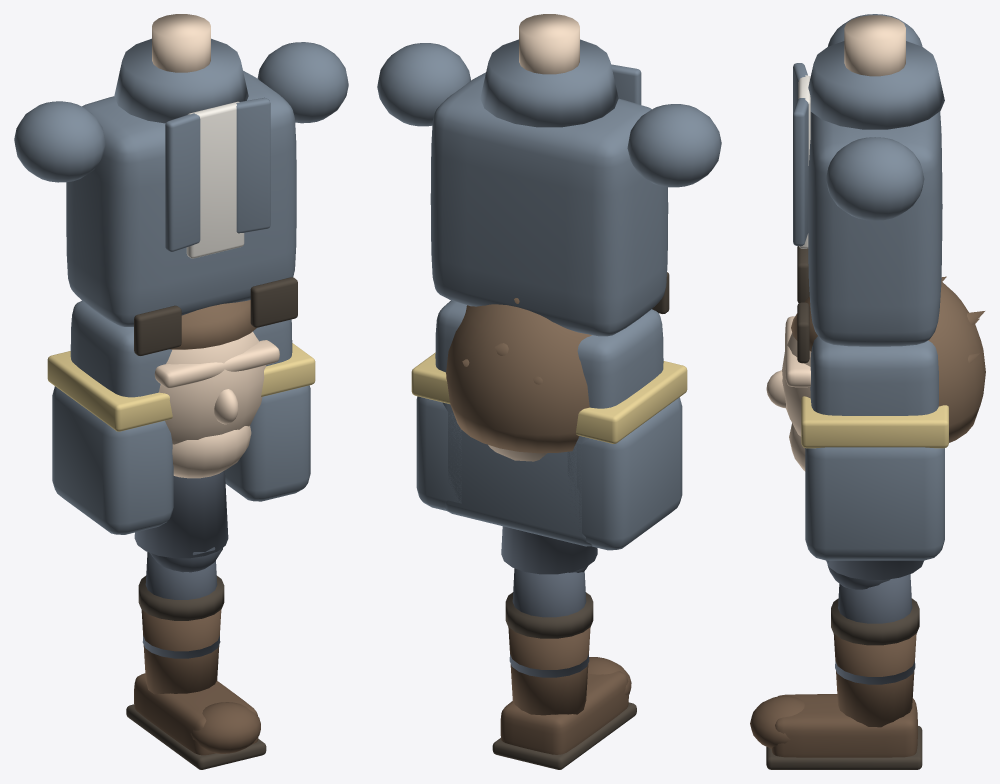
File: hero_kit.glb
The picture shows the model from 3 angles, left to right: view 1: azimuth 30°, elevation 25°; view 2: azimuth 150°, elevation 25°; view 3: azimuth 270°, elevation 25°; orthographic projection. The views are drawn at different scales.
Parts seen in each view (by area): view 1: torso, leg, head; view 2: torso, leg, head; view 3: torso, leg, head.
Boxes of the visible parts, x1=… form: torso: x1=14, y1=14, x2=348, y2=534; leg: x1=126, y1=470, x2=266, y2=769; head: x1=154, y1=300, x2=279, y2=478; torso: x1=377, y1=14, x2=721, y2=550; leg: x1=492, y1=526, x2=636, y2=769; head: x1=446, y1=298, x2=591, y2=461; torso: x1=793, y1=14, x2=948, y2=560; leg: x1=750, y1=560, x2=923, y2=769; head: x1=766, y1=276, x2=985, y2=471.
Bounding box in the file's own units: 0.94 × 1.95 × 0.575.
